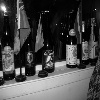beer: (39, 22, 57, 72)
